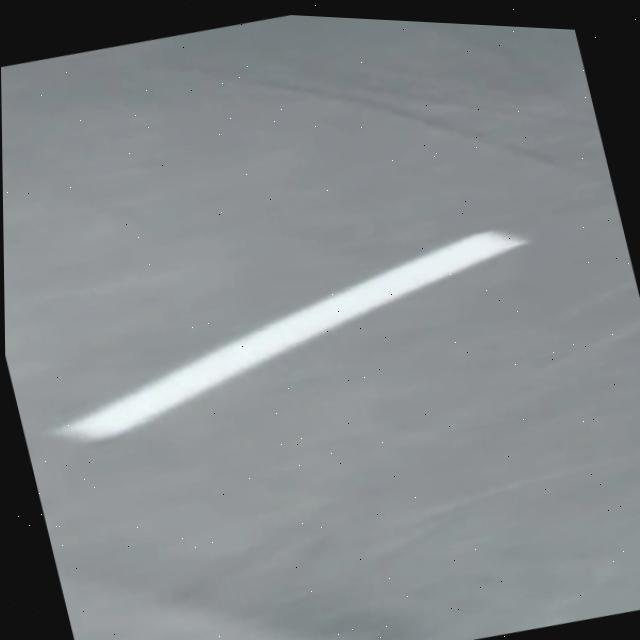center: (55, 230, 525, 439)
